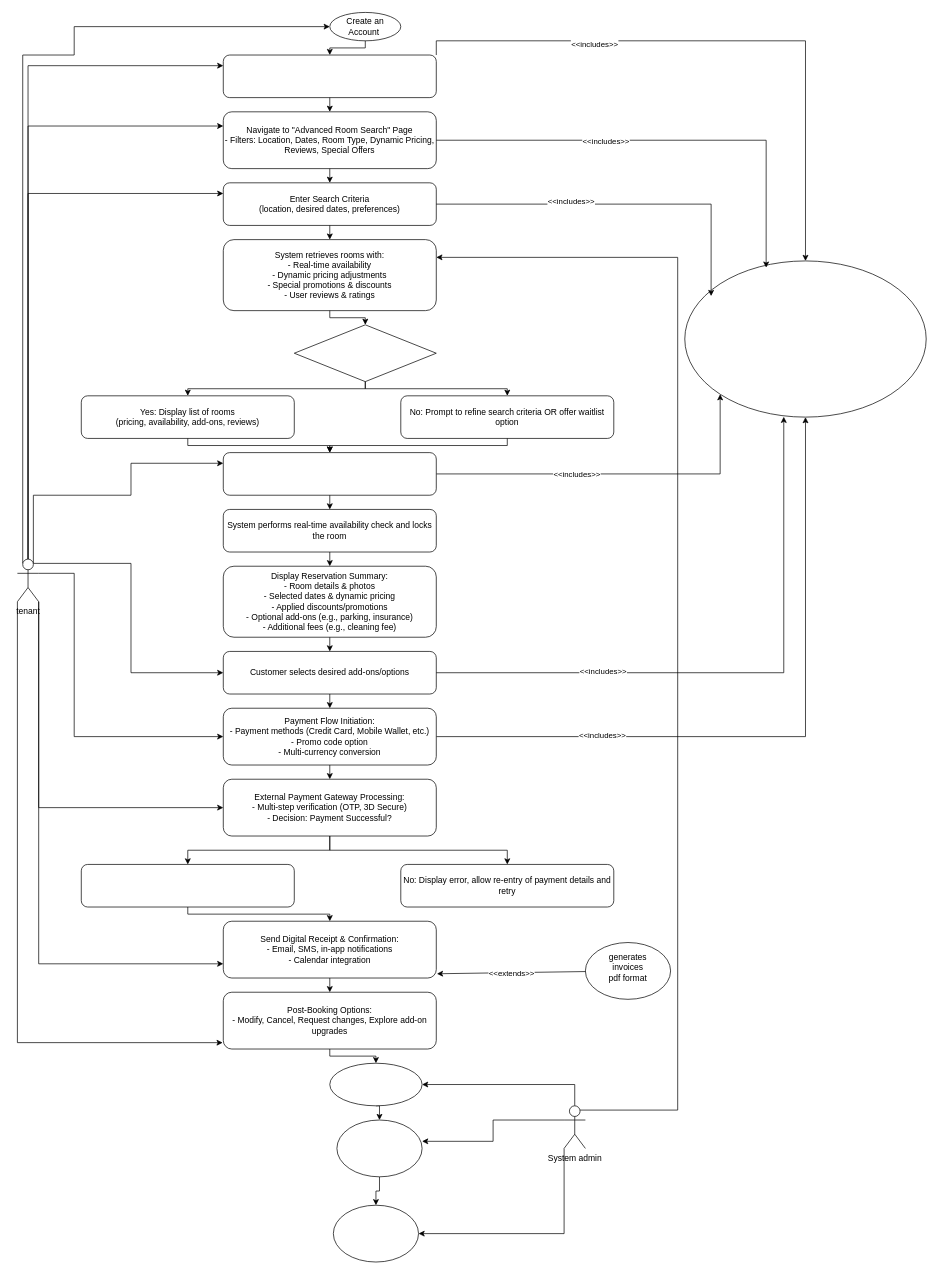
The diagram is 939 pixels wide and 1274 high, and some of its shapes have lost their labels. The centre of each missing label's shape, as x and y in pixels:
Customer logs into account (authentication & session establishment): (x=329, y=76)
Customer selects a room option: (x=329, y=473)
Decision: Are there Matching Rooms?: (x=365, y=353)
login: (x=805, y=338)
update discount details: (x=376, y=1233)
update room prices: (x=379, y=1148)
update rooms availability according to dates: (x=375, y=1084)
Yes: Process payment, update room availability, confirm reservation: (x=187, y=885)
